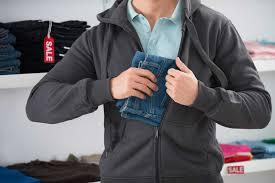shoplifting: (56, 17, 254, 156)
